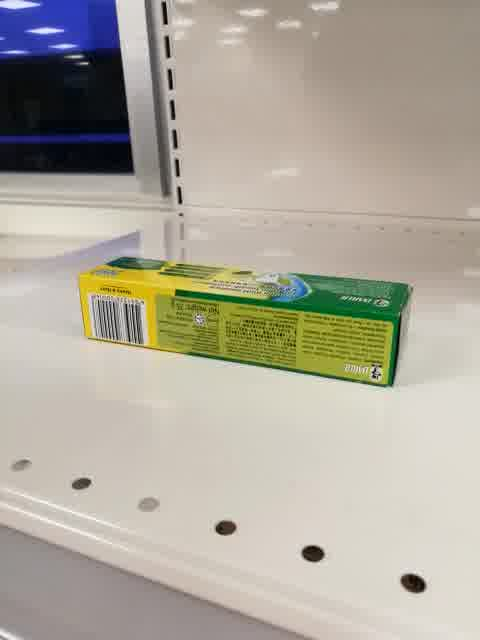toothpaste: (79, 256, 415, 391)
